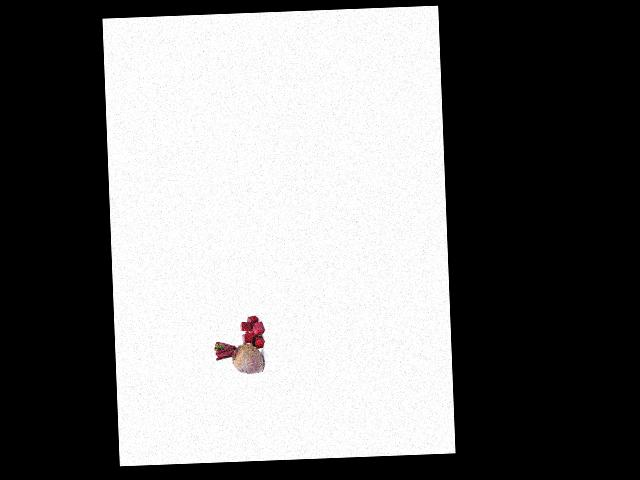beet: (214, 339, 265, 374)
